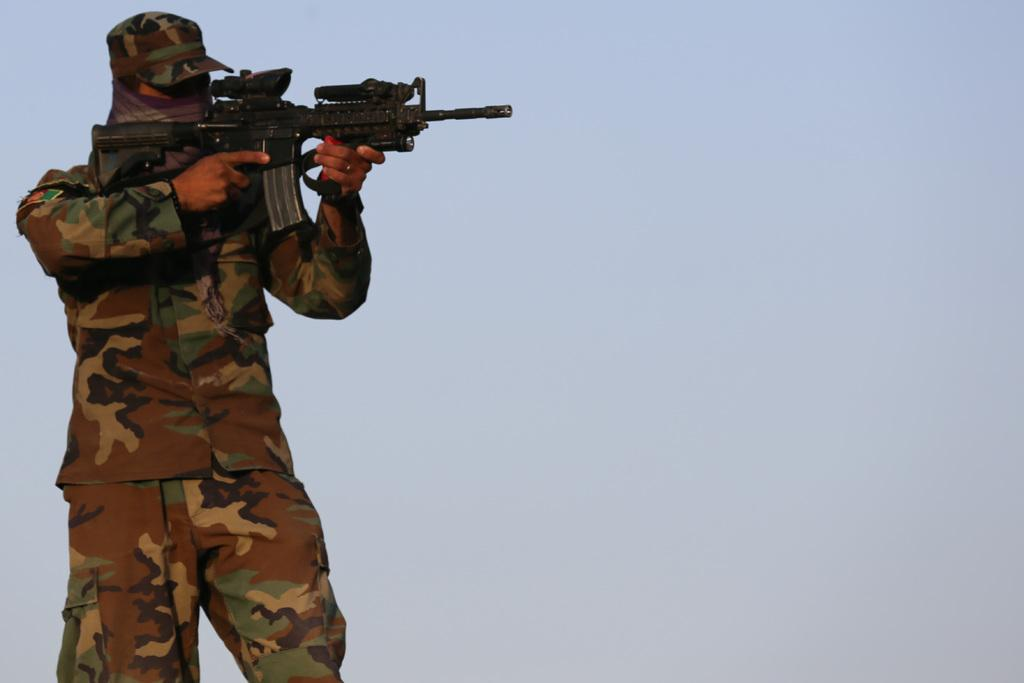Shotgun: (103, 62, 488, 225)
